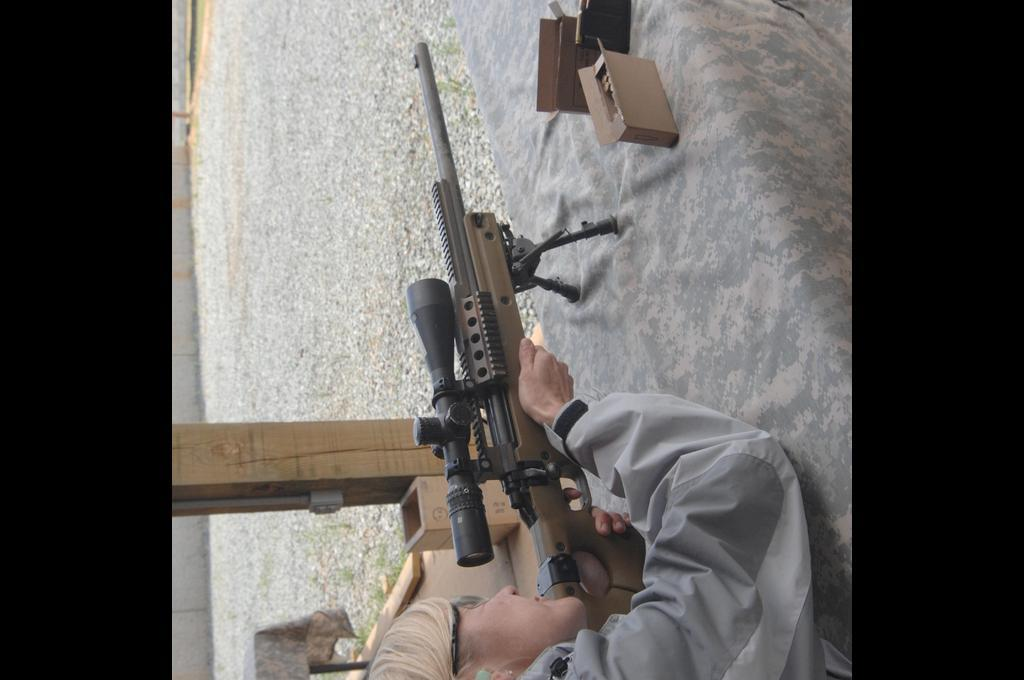gun: (408, 41, 616, 654)
